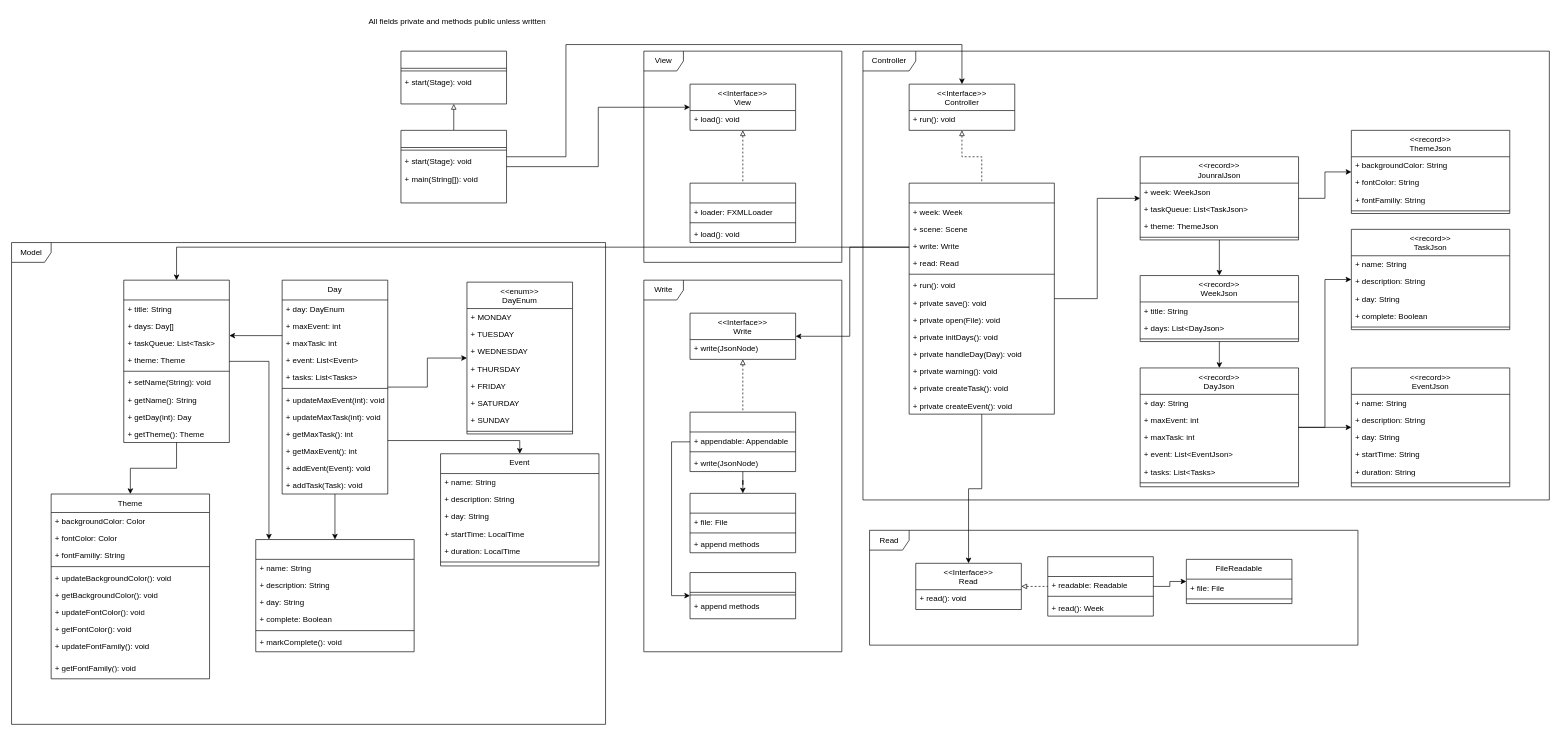
Image size: 1561x736. Some labels were removed from this diagram. The box of each missing label's shape, as (x1, y1, x2, y2) in pixels:
Application: (400, 50, 507, 104)
Driver: (400, 130, 507, 203)
FileAppendable: (689, 493, 796, 553)
FileReader: (1047, 556, 1153, 616)
FileWriter: (689, 412, 796, 472)
JournalController: (908, 182, 1054, 414)
MockAppendabel: (689, 572, 796, 619)
Task: (255, 539, 414, 652)
Week: (123, 280, 229, 443)
WeekView: (689, 182, 796, 243)
